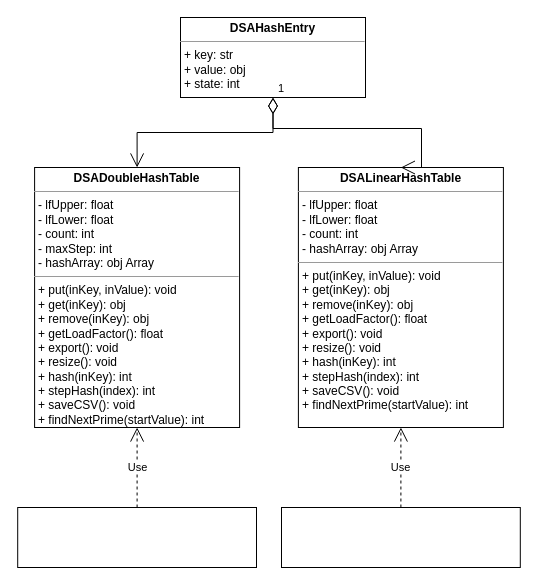
The diagram is 538 pixels wide and 585 high, and some of its shapes have lost their labels. The centre of each missing label's shape, as x and y in pixels:
"graphTestHarness + DSAHashTable: DSALinearHashTable" belongs at pixel 400 537.
"readHash + DSAHashTable: DSADoubleHashTable" belongs at pixel 136 537.
